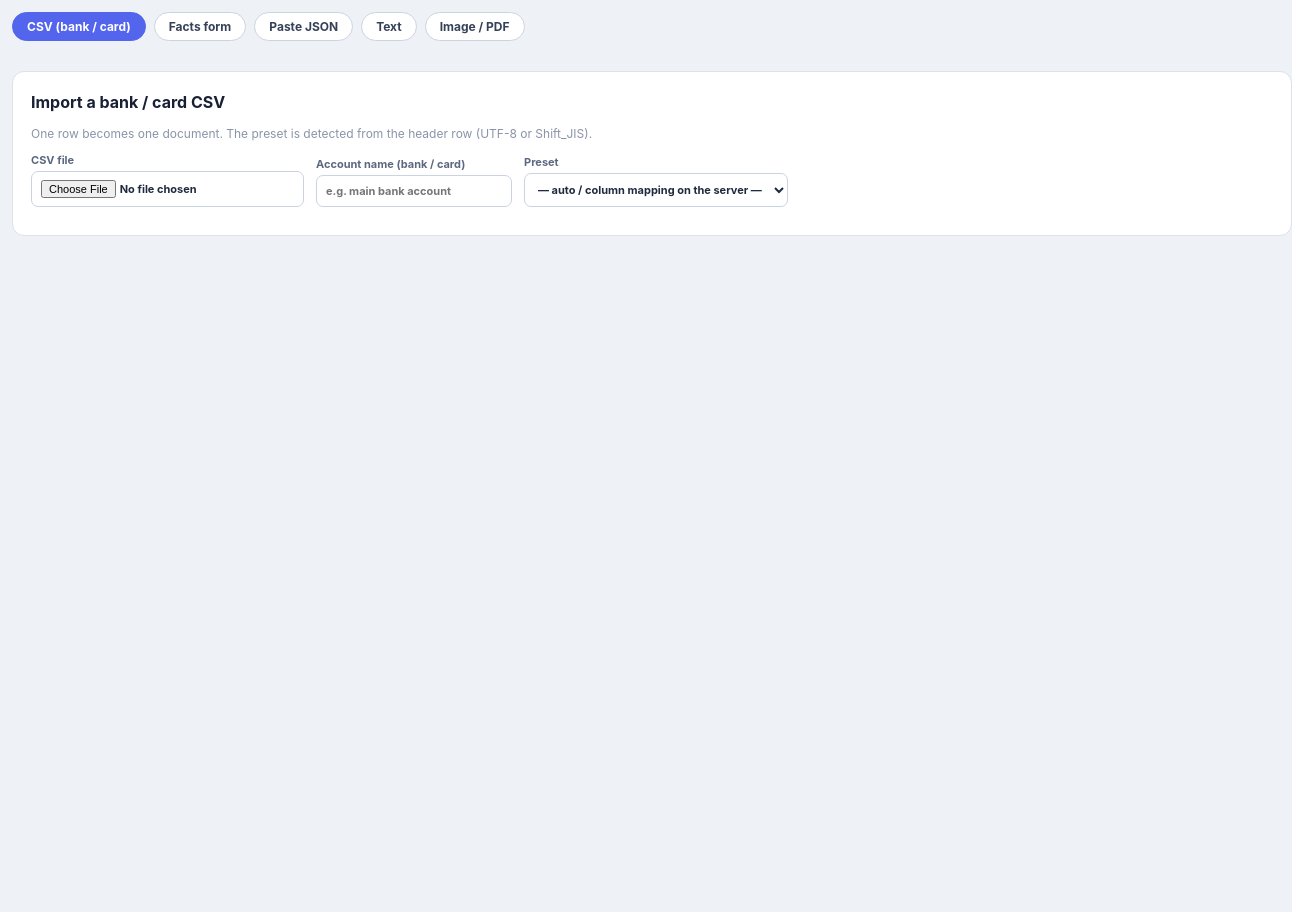
Scenario: IngestTab › 正常: 事実フォームの入力が整っていれば帳票を保存し、次の一手を案内する
Click the button "Facts form" at [200, 26], box 154,12 -> 246,41
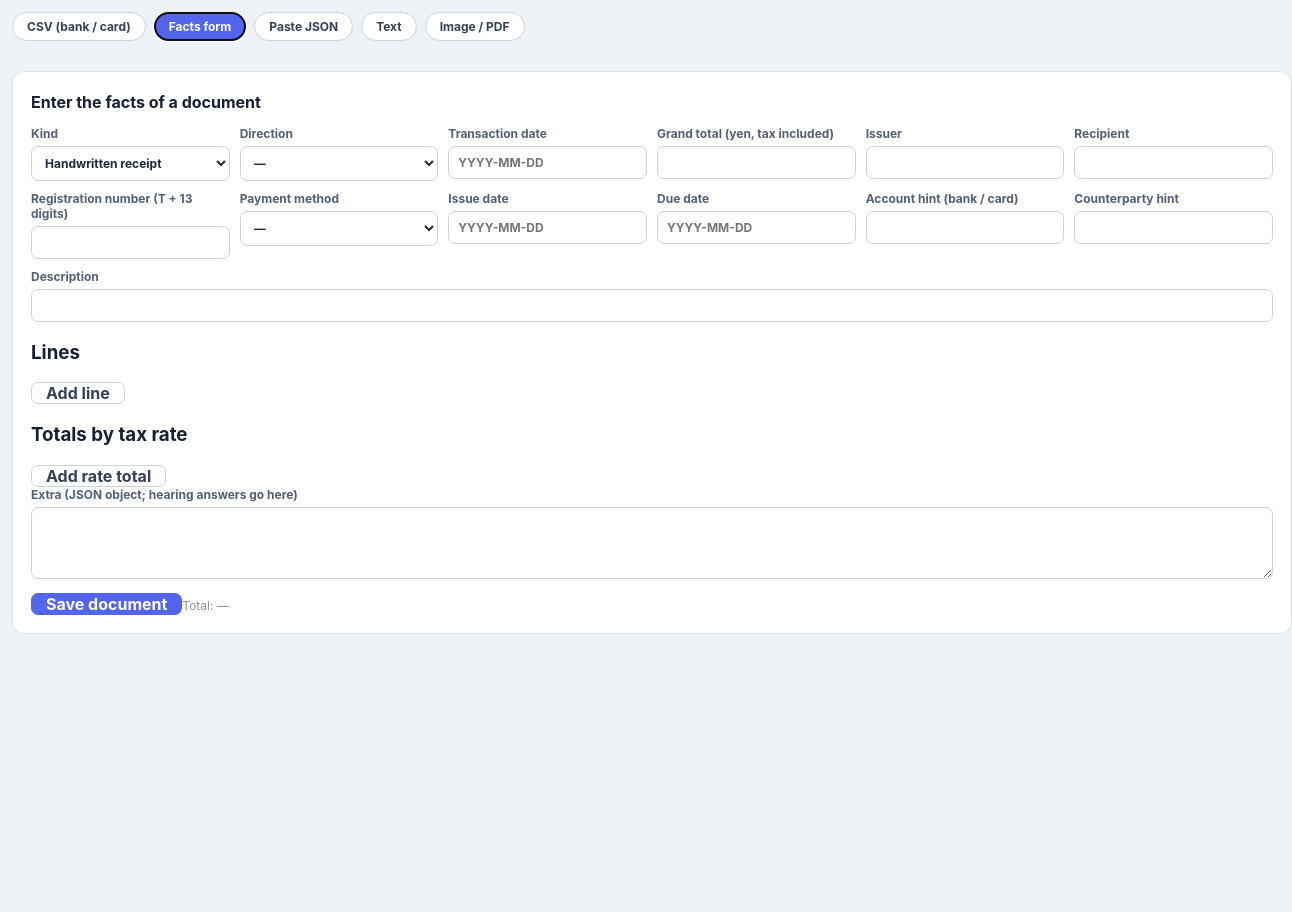
Type "2026-09-01" into the field labelled "Transaction date" at [548, 162], box 448,146 -> 647,179
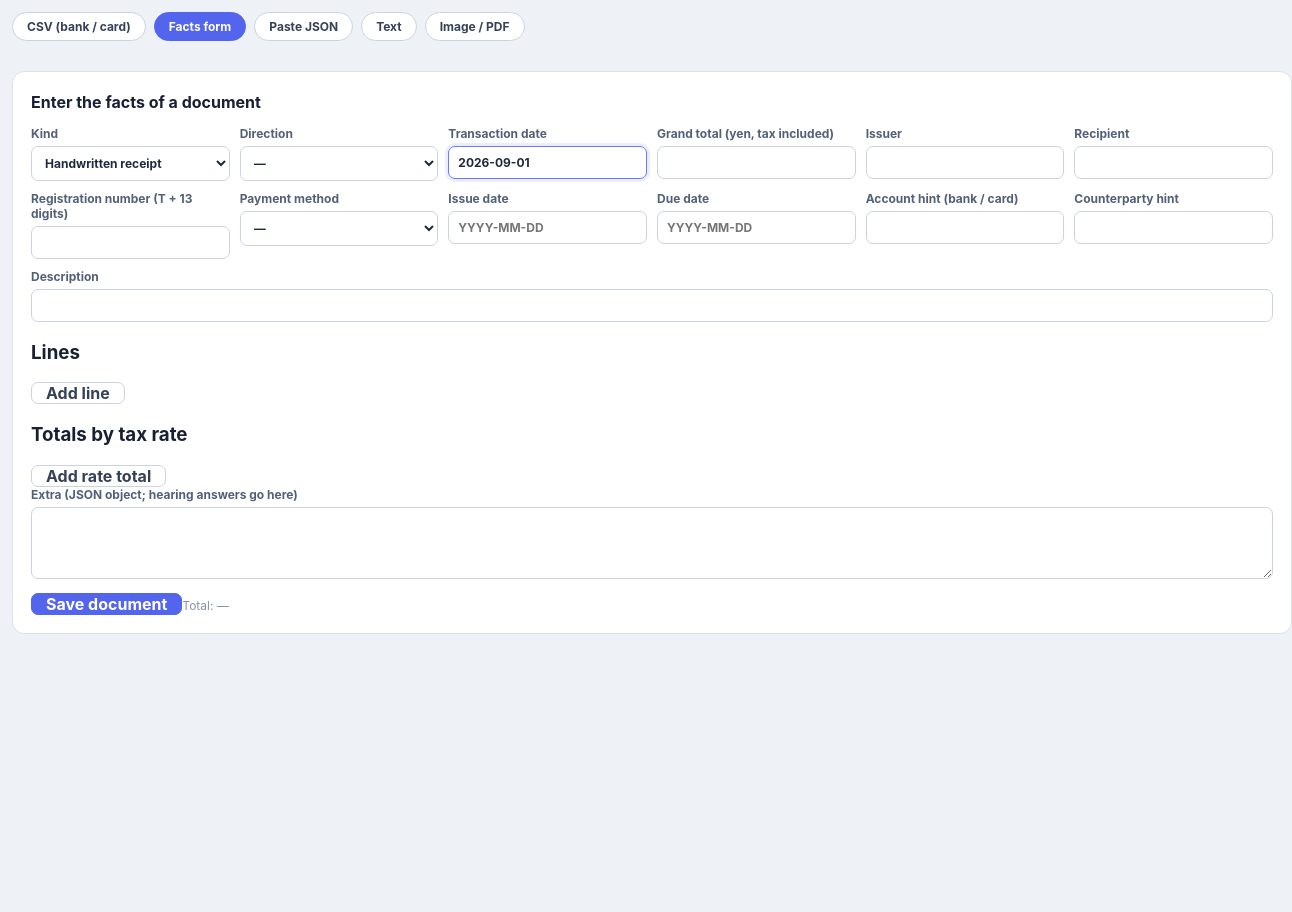
Type "1,100" into the field labelled "Grand total" at [756, 162], box 657,146 -> 856,179
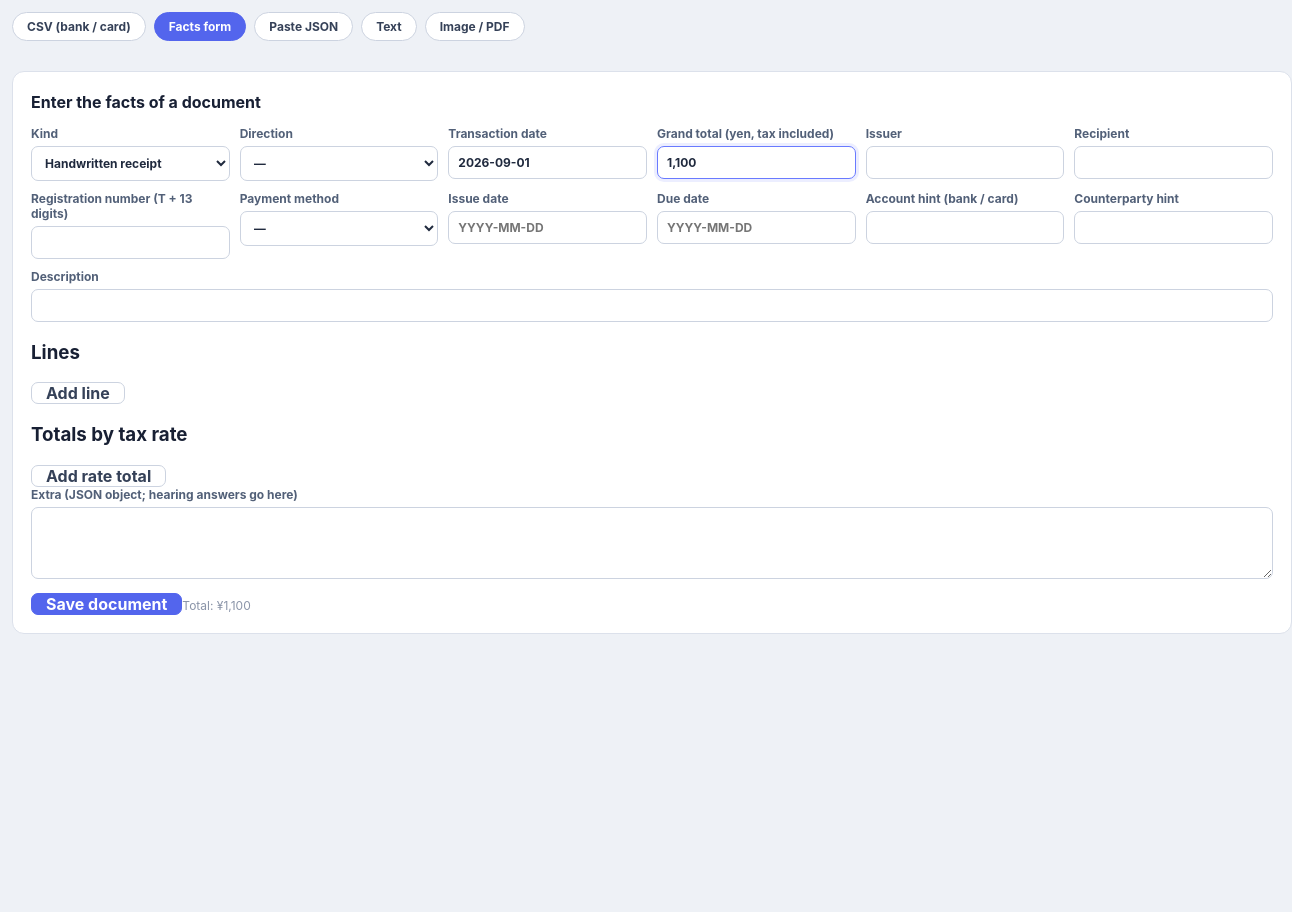
Type "サンプルカフェ" into the field named "Issuer name" at [965, 162], box 866,146 -> 1064,179
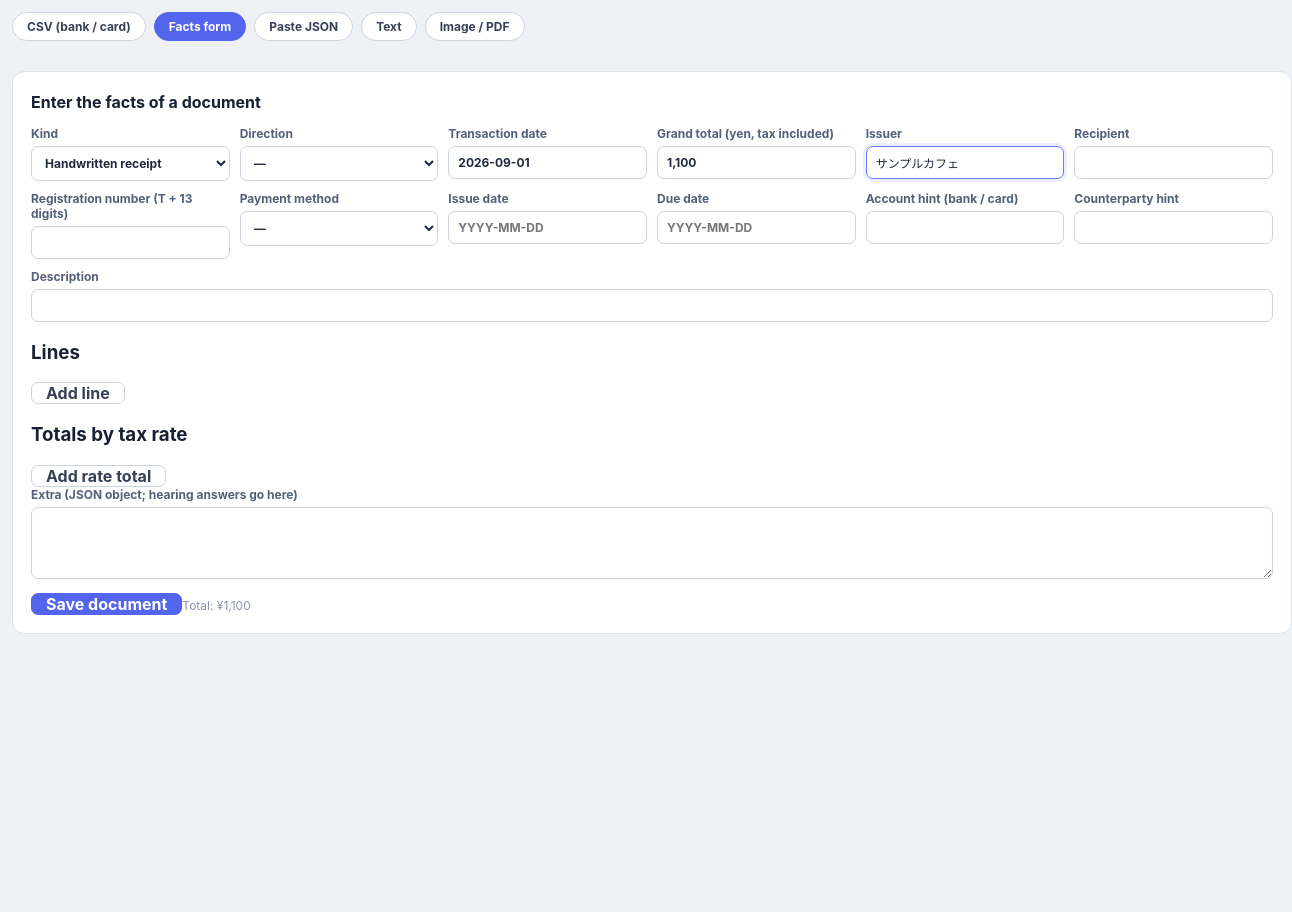
Click the button "Save document" at [107, 604], box 31,593 -> 182,615
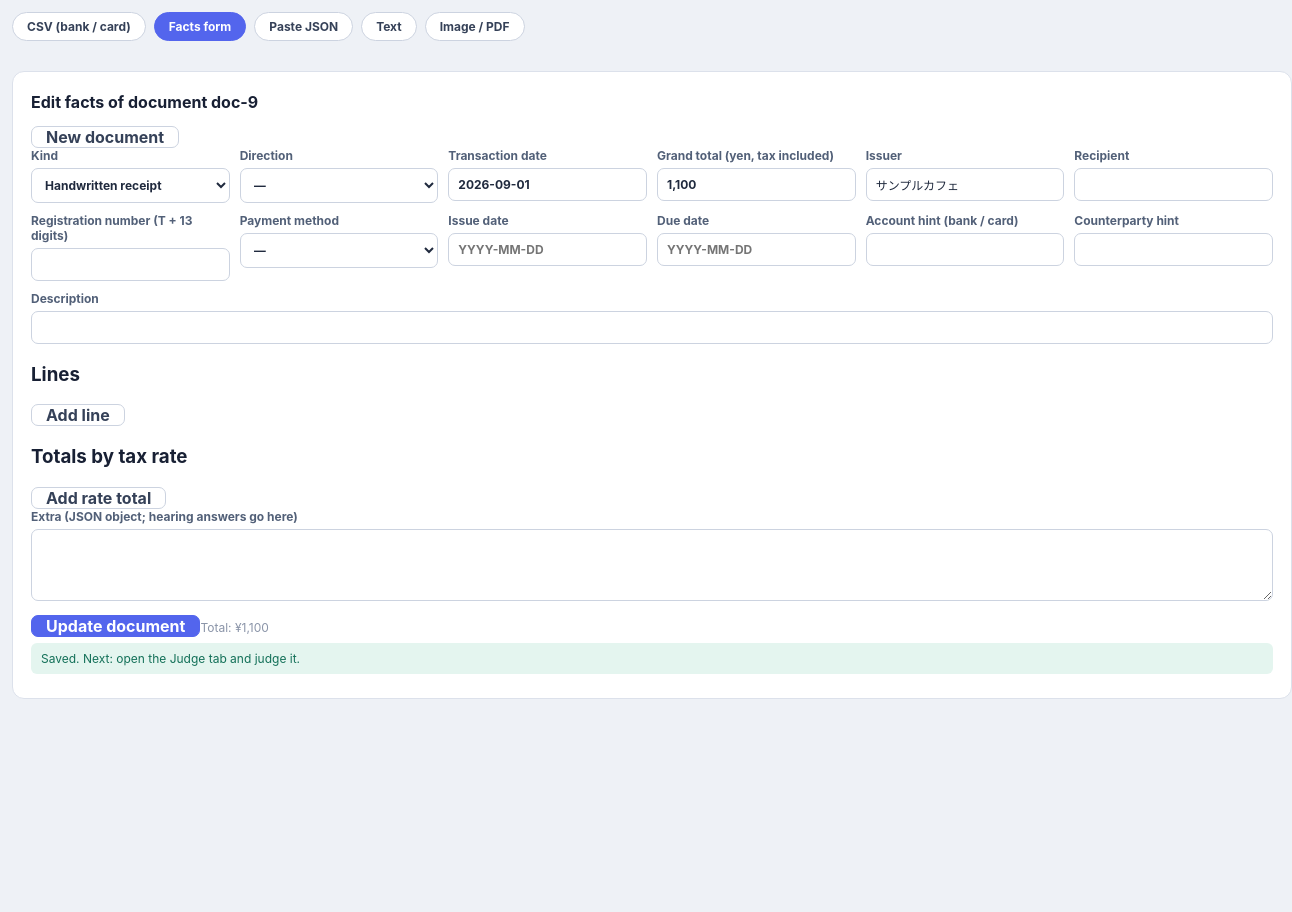
Result: the text "Saved. Next: open the Judge tab and judge it." is shown at 31,643 -> 1273,674
